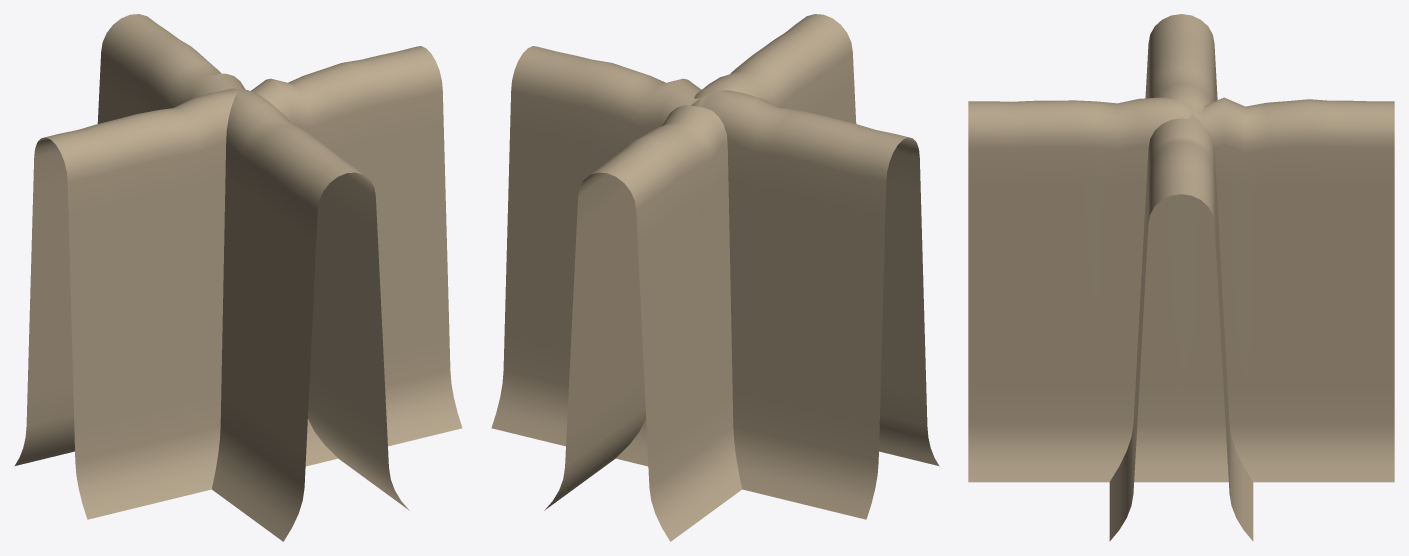
File: KFB_Wall_cross.r1.glb
3 views of the same model, side by side, from view 1: azimuth 30°, elevation 25°; view 2: azimuth 150°, elevation 25°; view 3: azimuth 270°, elevation 25° (orthographic).
Visible parts, largest first — view 1: KFB_Wall_cross; view 2: KFB_Wall_cross; view 3: KFB_Wall_cross.
Boxes of the visible parts, bbox=[...] form: KFB_Wall_cross: bbox=[14, 14, 462, 541]; KFB_Wall_cross: bbox=[491, 14, 939, 541]; KFB_Wall_cross: bbox=[968, 14, 1394, 541].
Bounding box in the file's own units: 4 × 3.64 × 4.
